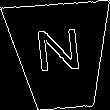N_S: (34, 29, 87, 83)
